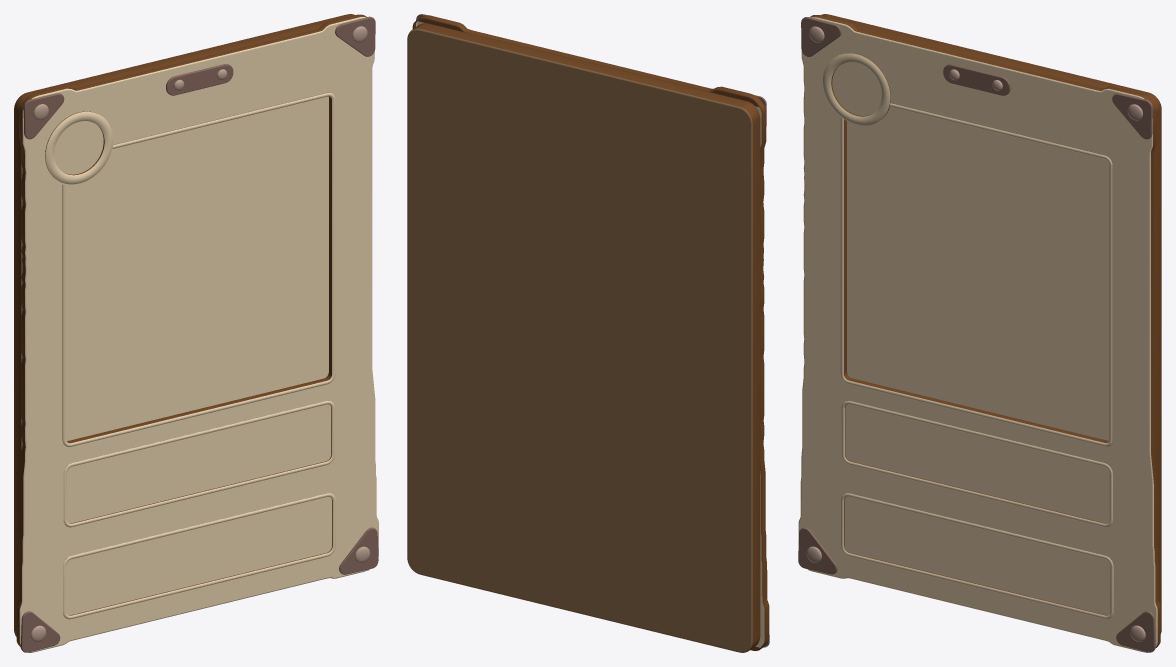
The model's file is card-common.glb.
3 views of the same model, side by side, from view 1: azimuth 30°, elevation 25°; view 2: azimuth 150°, elevation 25°; view 3: azimuth 330°, elevation 25° (orthographic).
Parts seen in each view (by area): view 1: slab.002, frame.001, name-plate.002, stat-plate.002, metal-plates, rim-window.002, rim-name.002, rim-stat.002, medal-disc.002, rim-medal.002, metal-rivets; view 2: slab.002, frame.001; view 3: slab.002, frame.001, name-plate.002, stat-plate.002, metal-plates, rim-window.002, rim-name.002, rim-stat.002, medal-disc.002, rim-medal.002, metal-rivets.
Part boxes in pixels (<box>): slab.002: <box>14,14,355,636</box>; frame.001: <box>16,14,378,652</box>; name-plate.002: <box>67,404,331,523</box>; stat-plate.002: <box>66,496,331,615</box>; metal-plates: <box>20,16,378,652</box>; rim-window.002: <box>62,92,335,446</box>; rim-name.002: <box>63,401,334,527</box>; rim-stat.002: <box>63,493,335,619</box>; medal-disc.002: <box>54,121,103,174</box>; rim-medal.002: <box>45,111,112,184</box>; metal-rivets: <box>30,26,370,641</box>; slab.002: <box>407,23,760,652</box>; frame.001: <box>412,15,769,650</box>; slab.002: <box>820,14,1161,633</box>; frame.001: <box>798,15,1160,652</box>; name-plate.002: <box>845,404,1109,523</box>; stat-plate.002: <box>844,496,1110,615</box>; metal-plates: <box>798,17,1155,652</box>; rim-window.002: <box>840,103,1112,446</box>; rim-name.002: <box>841,400,1112,527</box>; rim-stat.002: <box>841,493,1113,618</box>; medal-disc.002: <box>832,62,881,115</box>; rim-medal.002: <box>823,53,890,125</box>; metal-rivets: <box>806,26,1145,641</box>.
Bounding box in the file's own units: 0.9452 × 1.4 × 0.0665.
